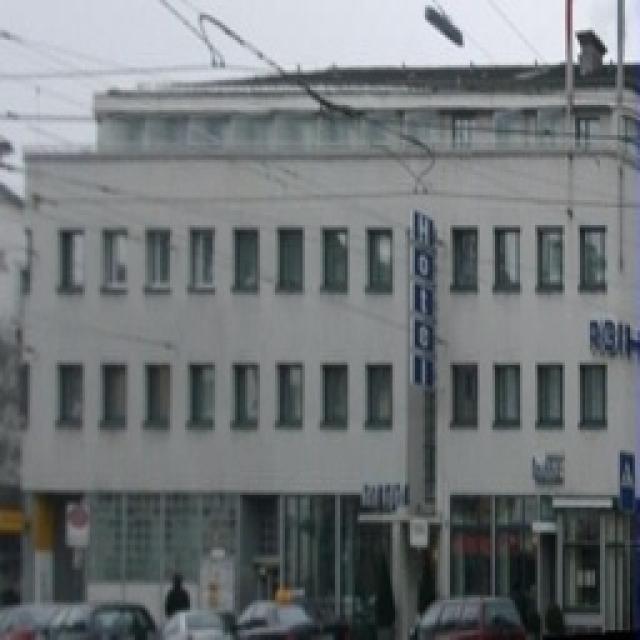building: (10, 42, 640, 620)
